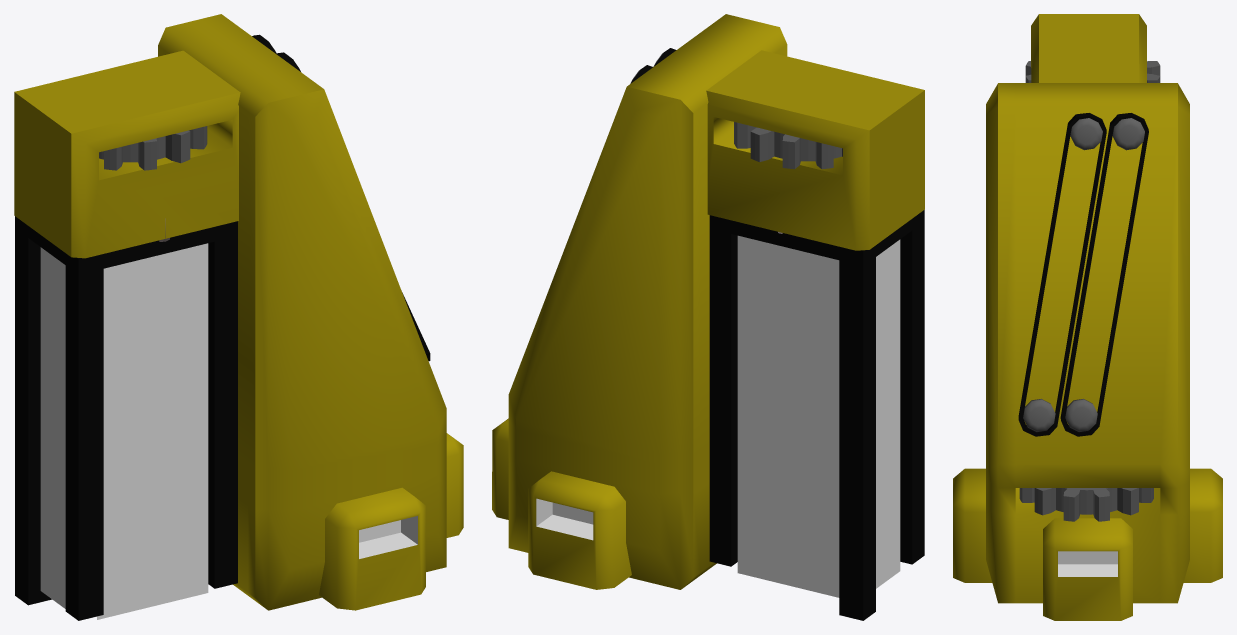
Rendered from Miner.fbx.
3 renders of one model, left to right at view 1: azimuth 30°, elevation 25°; view 2: azimuth 150°, elevation 25°; view 3: azimuth 270°, elevation 25°, orthographic. The views are drawn at different scales.
Parts seen in each view (by area): view 1: MinerVisuals, Cage, CageFrame, Gear2; view 2: MinerVisuals, Cage, CageFrame, Gear2; view 3: MinerVisuals, Belts2, Belts, Gear1, Gear2.
Part boxes in pixels (left/top/right/bottom): MinerVisuals: left=14, top=14, right=463, bottom=610; Cage: left=40, top=243, right=208, bottom=619; CageFrame: left=15, top=216, right=237, bottom=620; Gear2: left=99, top=126, right=207, bottom=170; MinerVisuals: left=492, top=14, right=924, bottom=589; Cage: left=737, top=235, right=900, bottom=597; CageFrame: left=709, top=210, right=924, bottom=620; Gear2: left=734, top=122, right=842, bottom=169; MinerVisuals: left=953, top=14, right=1222, bottom=620; Belts2: left=1060, top=113, right=1148, bottom=436; Belts: left=1018, top=113, right=1106, bottom=436; Gear1: left=1019, top=488, right=1153, bottom=521; Gear2: left=1025, top=61, right=1160, bottom=82.
Size of what is drawn, in the model's own units: 4.51 by 5.5 by 3.
